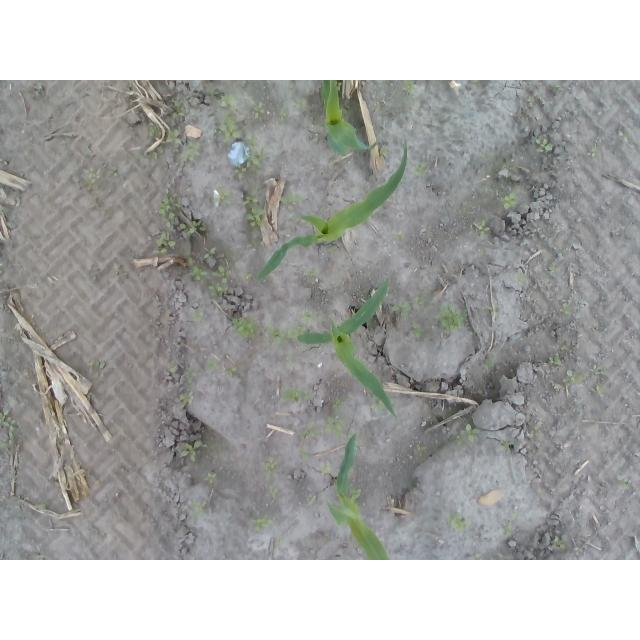Maize: (253, 139, 409, 285), (296, 279, 398, 419), (329, 432, 392, 561), (315, 80, 372, 156)
Weeds: (155, 193, 209, 256), (187, 247, 230, 298), (213, 94, 240, 145), (164, 97, 186, 146), (269, 322, 312, 347), (434, 302, 466, 333), (243, 192, 265, 227), (451, 422, 481, 446), (0, 406, 16, 450), (394, 294, 428, 314), (279, 189, 305, 212), (235, 316, 262, 338), (178, 440, 202, 463), (244, 136, 261, 168), (206, 360, 238, 377), (188, 496, 208, 520), (265, 471, 282, 499), (502, 190, 523, 211), (448, 510, 468, 532), (283, 388, 310, 404), (325, 413, 343, 437), (501, 514, 519, 538), (532, 135, 554, 153), (549, 534, 569, 553), (563, 368, 585, 385), (84, 166, 101, 187), (183, 143, 201, 161), (254, 517, 274, 532), (253, 101, 266, 124), (413, 321, 428, 339), (478, 219, 491, 239), (261, 459, 279, 473), (514, 273, 529, 288), (233, 165, 248, 180), (558, 304, 575, 317), (297, 447, 310, 464), (180, 392, 193, 408), (148, 124, 160, 141), (588, 365, 602, 379), (413, 164, 428, 177), (294, 97, 307, 112), (482, 356, 497, 369), (622, 478, 634, 494), (301, 430, 322, 439), (193, 311, 210, 322), (402, 80, 415, 94), (592, 385, 605, 399), (416, 443, 428, 458), (206, 471, 218, 486), (548, 354, 563, 366), (488, 305, 499, 320), (391, 230, 406, 241), (619, 129, 630, 143), (321, 461, 332, 475), (184, 368, 193, 385), (301, 269, 319, 277), (242, 271, 256, 281), (304, 495, 316, 506), (218, 189, 230, 199), (588, 147, 598, 159), (134, 152, 146, 161), (278, 111, 288, 121), (110, 167, 119, 178), (526, 96, 534, 108), (334, 399, 343, 408), (303, 313, 313, 320), (474, 552, 482, 560)
